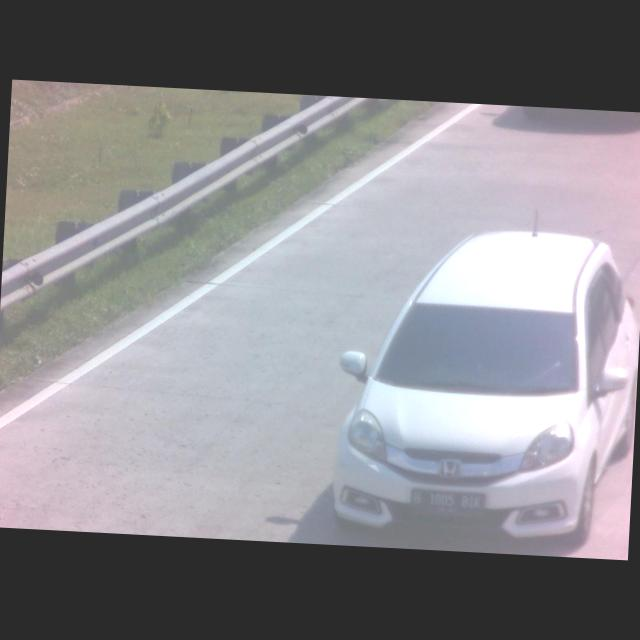plate: (406, 487, 482, 519)
